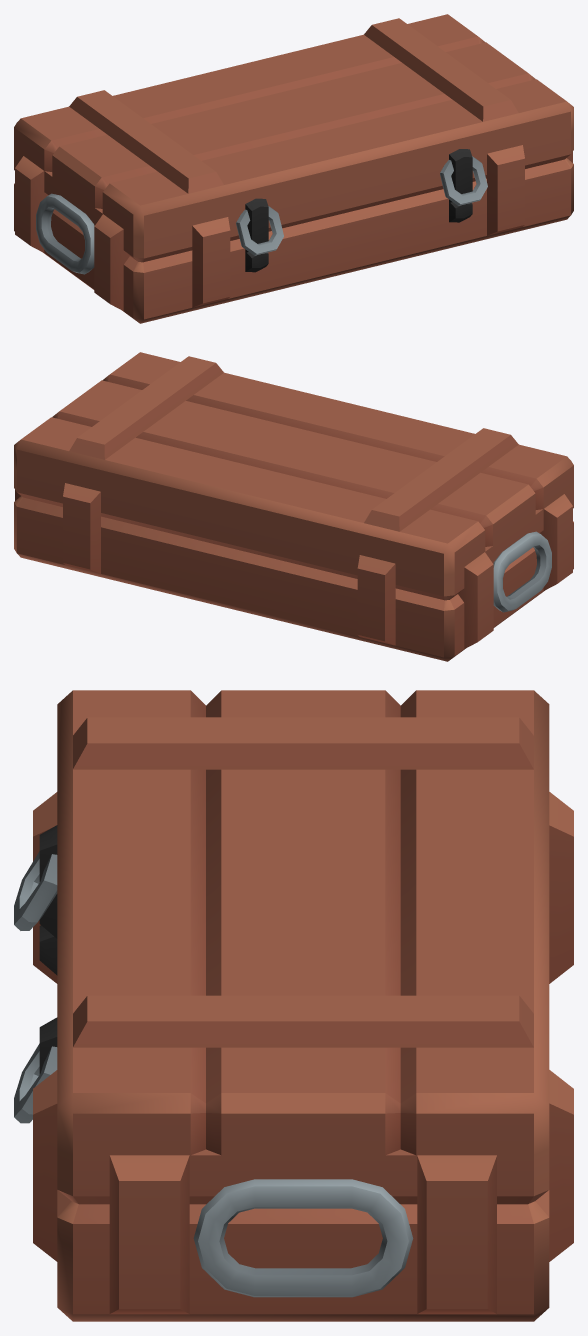
Rendered from caisse_bois.glb.
3 views of the same model, one above another, from view 1: azimuth 30°, elevation 25°; view 2: azimuth 150°, elevation 25°; view 3: azimuth 270°, elevation 25° (orthographic). The views are drawn at different scales.
Visible parts, largest first — view 1: Containers_Crate_Medium_Wood; view 2: Containers_Crate_Medium_Wood; view 3: Containers_Crate_Medium_Wood.
Part boxes in pixels (x1=…): Containers_Crate_Medium_Wood: x1=14, y1=14, x2=573, y2=323; Containers_Crate_Medium_Wood: x1=14, y1=352, x2=573, y2=661; Containers_Crate_Medium_Wood: x1=14, y1=690, x2=573, y2=1321.
Bounding box in the file's own units: 1.71 × 0.45 × 0.9107.
Materials: 1 (1 with a texture image).
